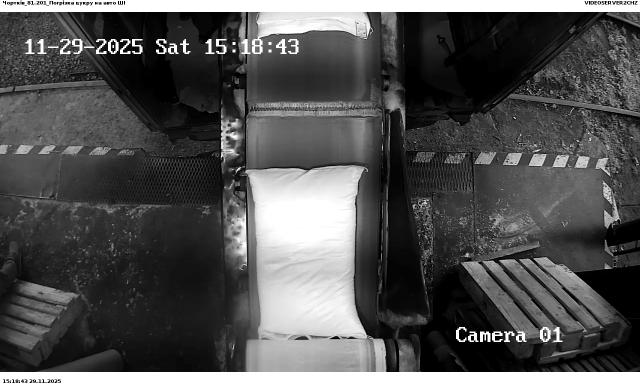bag: (247, 166, 373, 339), (257, 13, 372, 38)
